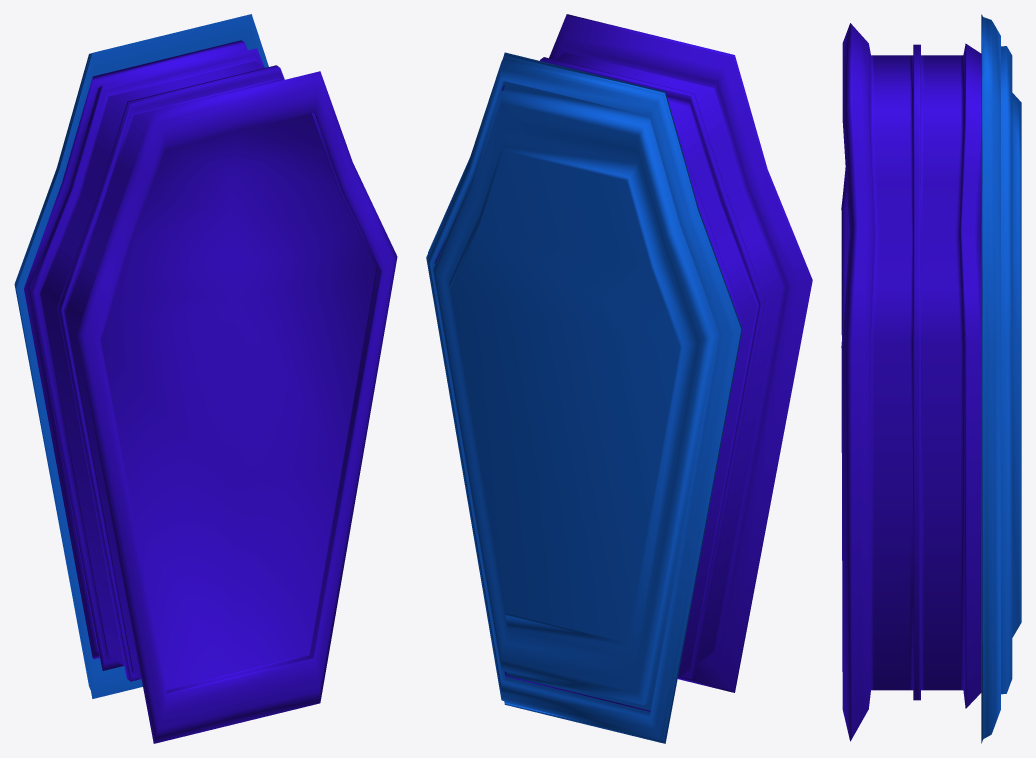
Rendered from Coffin.fbx.
3 renders of one model, left to right at view 1: azimuth 30°, elevation 25°; view 2: azimuth 150°, elevation 25°; view 3: azimuth 270°, elevation 25°, orthographic.
Parts seen in each view (by area): view 1: Coffin, Coffin Lid; view 2: Coffin Lid, Coffin; view 3: Coffin, Coffin Lid.
Part boxes in pixels (box(x1,y1,x2,y2)): Coffin: box(24, 40, 397, 743); Coffin Lid: box(14, 14, 268, 698); Coffin Lid: box(426, 52, 742, 743); Coffin: box(434, 14, 812, 711); Coffin: box(841, 23, 981, 741); Coffin Lid: box(981, 14, 1021, 743).
Bounding box in the file's own units: 416 × 801 × 200.
